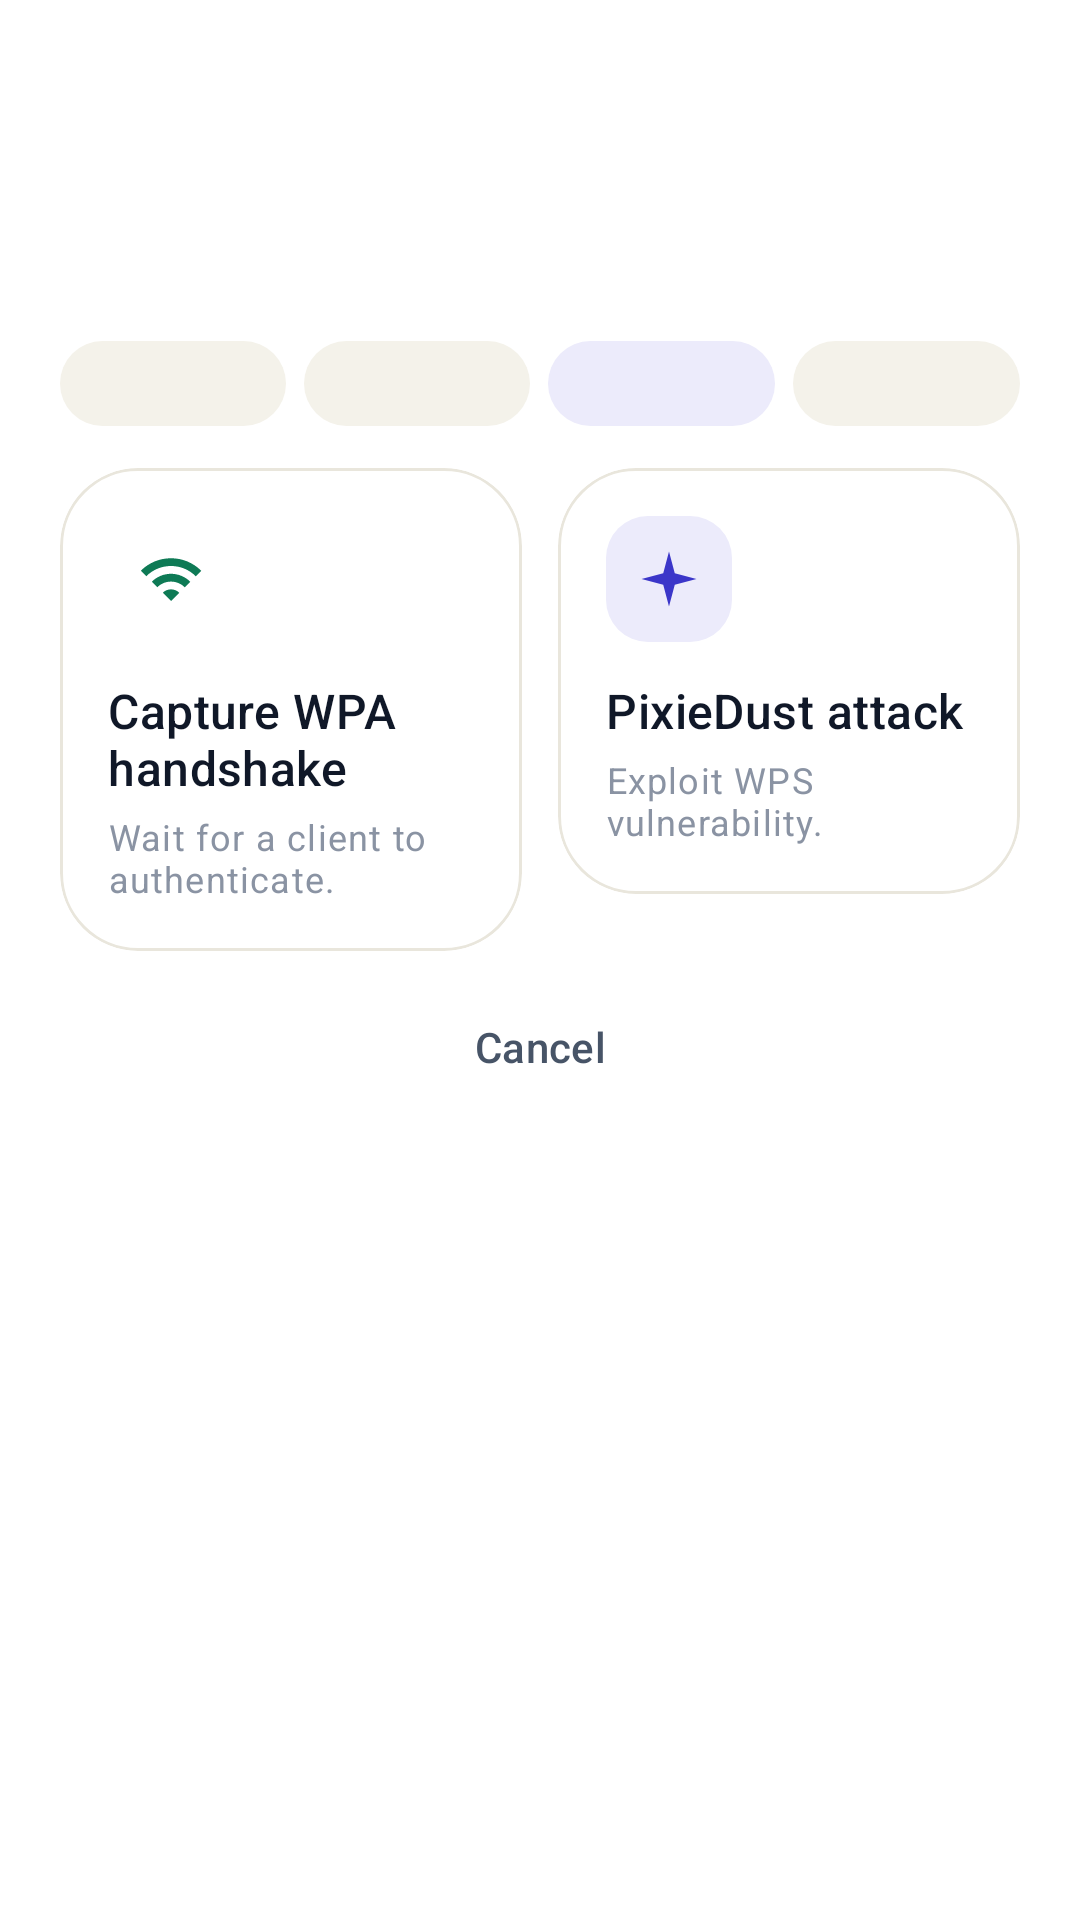

Locate icon controls on the screen. Image size 1080×1920, boxes as (x1, y1, x2, y2).
spark: (642, 552, 696, 606)
wifi: (141, 558, 201, 601)
